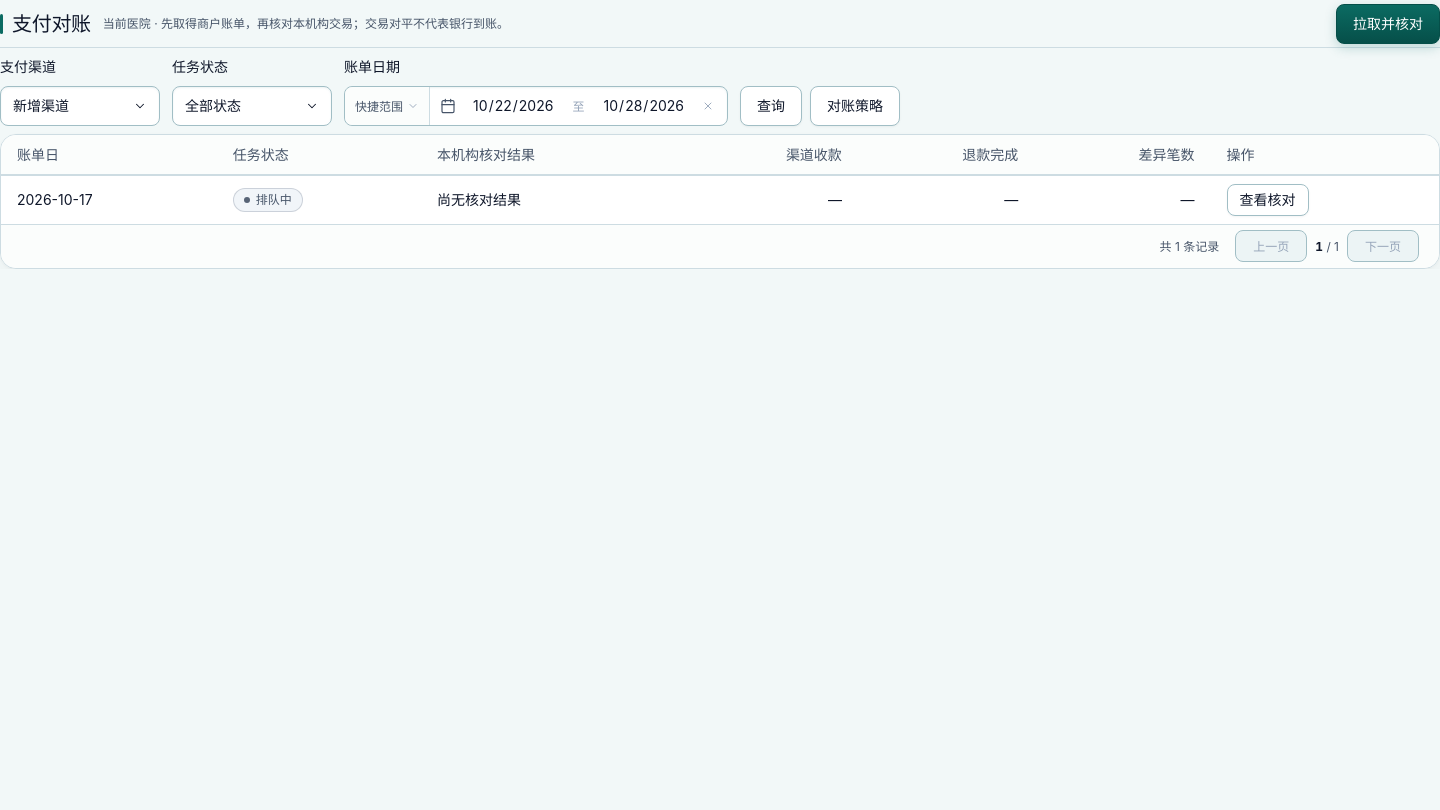
Test case: 交易对账工作台 › uses provider capabilities and server enum options, then creates an asynchronous task
Expected: the button "查看核对" is shown, [1226,184,1308,216]
Expected: the text "排队中" is shown, [233,188,303,212]
Click the button "拉取并核对": (1388, 24) [1336,4,1439,44]
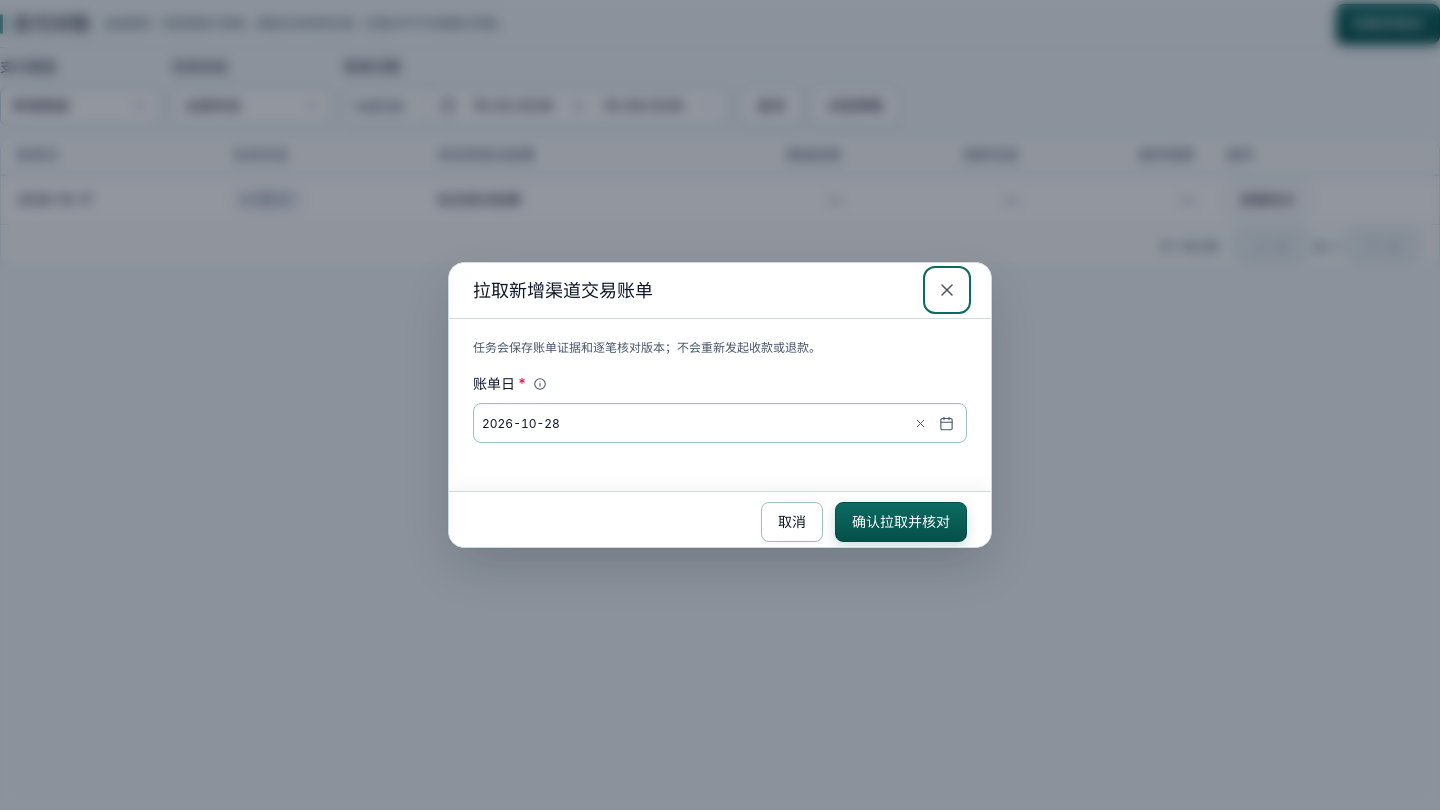
Expected: the dialog shows "新增渠道交易账单", [473,280,653,300]
Click the button "确认拉取并核对": (901, 522) [835,502,967,542]
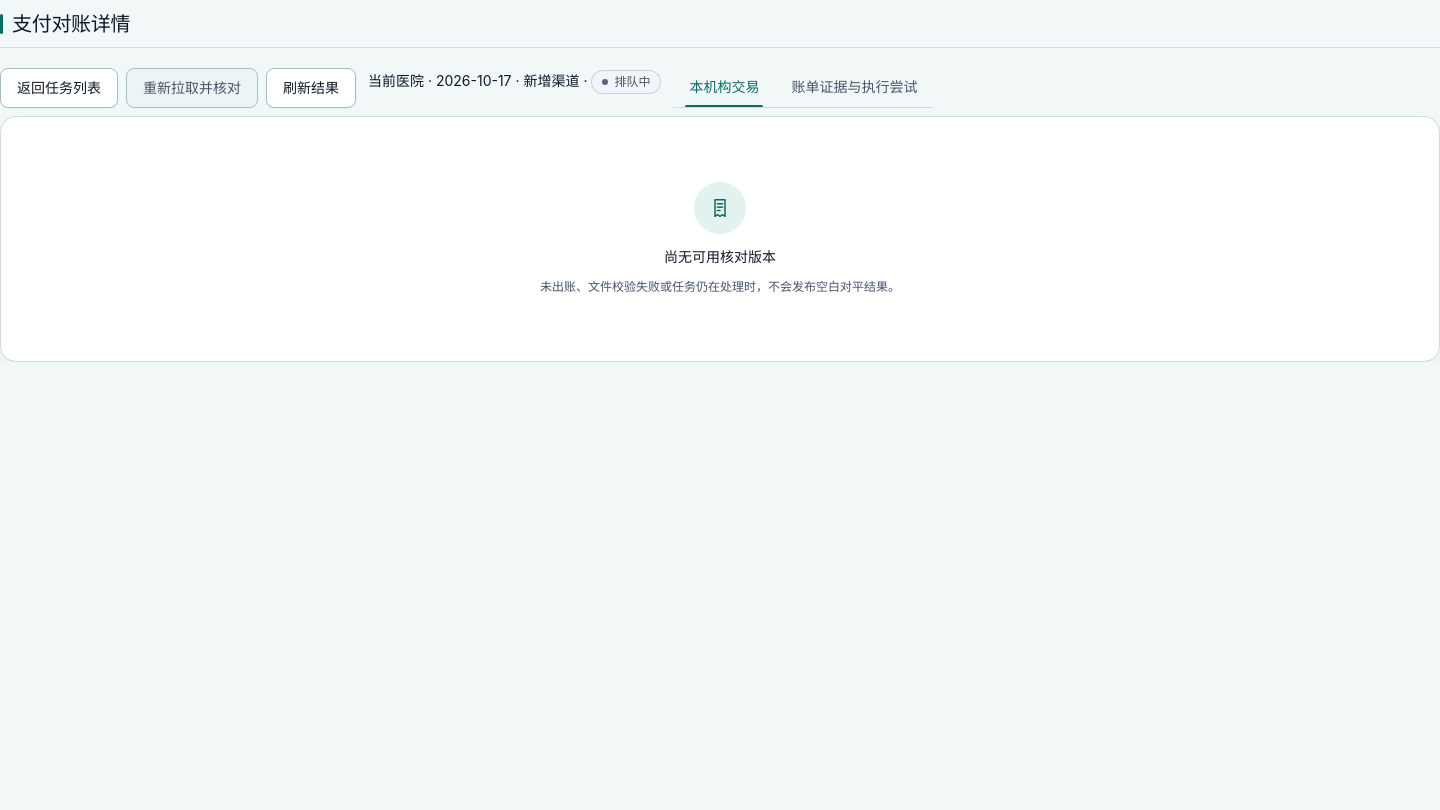
Expected: the text "尚无可用核对版本" is shown, [664,246,776,269]
